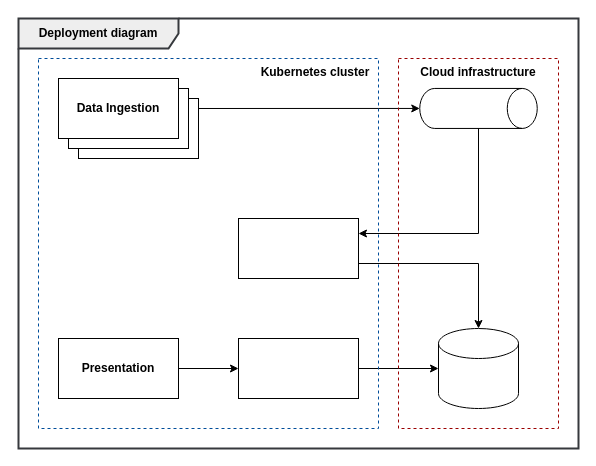
The diagram is 596 pixels wide and 466 high, and some of its shapes have lost their labels. Each missing label, with the centre of its shape:
"Application Services" goes at (x=298, y=368).
"Processing" goes at (x=298, y=248).
"Queue" goes at (x=478, y=108).
"Real-time & Historical Data" goes at (x=478, y=368).
